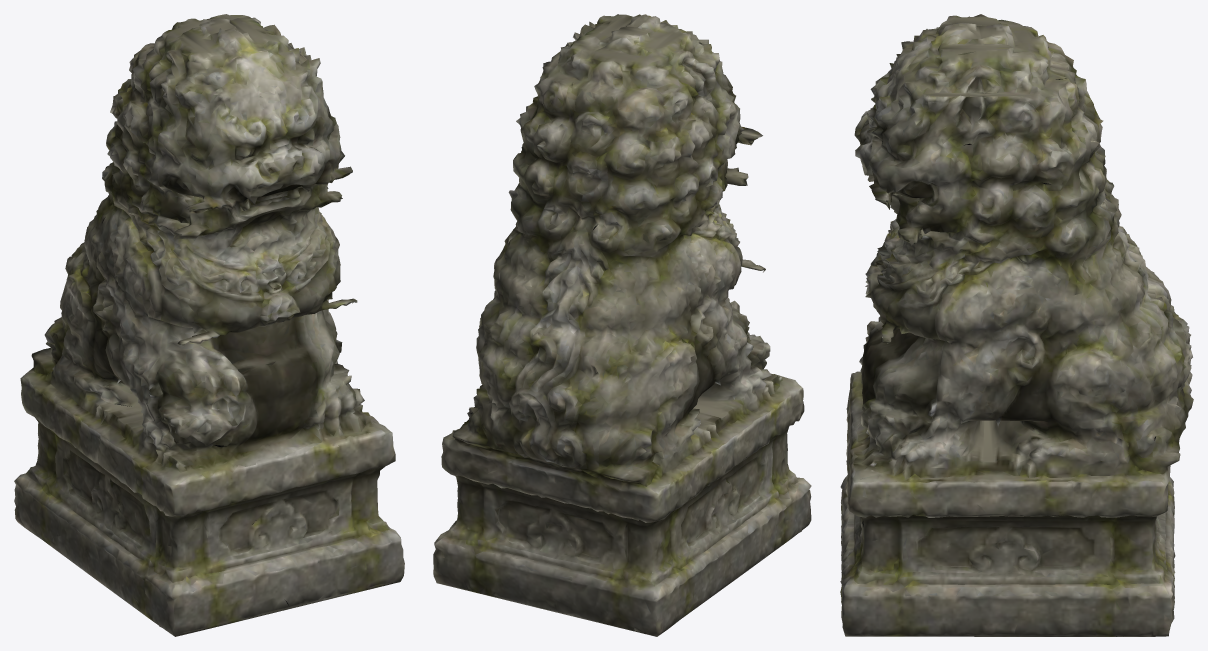
File: lion.glb
The picture shows the model from 3 angles, left to right: view 1: azimuth 30°, elevation 25°; view 2: azimuth 150°, elevation 25°; view 3: azimuth 270°, elevation 25°; orthographic projection. The views are drawn at different scales.
Parts seen in each view (by area): view 1: lion; view 2: lion; view 3: lion.
Part boxes in pixels (x1,y1,x2,y2): lion: [14, 14, 404, 636]; lion: [433, 14, 811, 636]; lion: [840, 14, 1193, 636].
Size of the model in its own units: 0.8053 by 1.74 by 1.
Materials: 1 (1 with a texture image).
